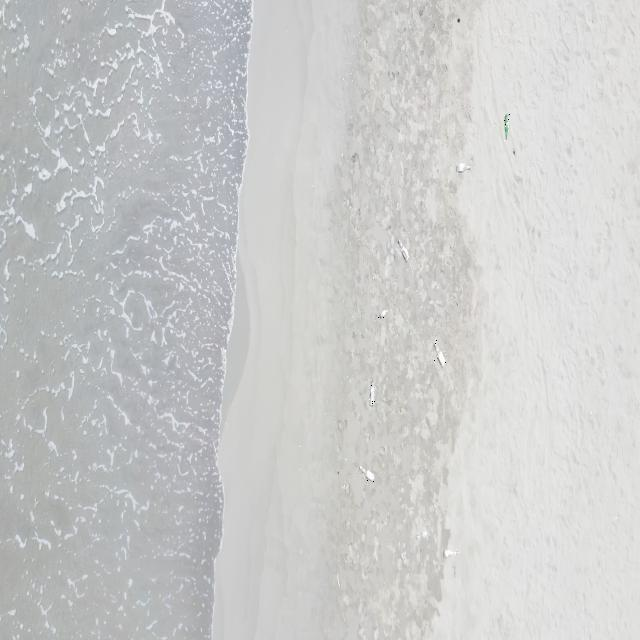glass: (434, 340, 446, 368), (358, 466, 376, 482), (398, 240, 410, 260), (369, 378, 376, 407), (457, 162, 471, 174), (504, 113, 510, 141), (444, 548, 460, 558), (416, 530, 427, 541), (378, 308, 388, 318)
